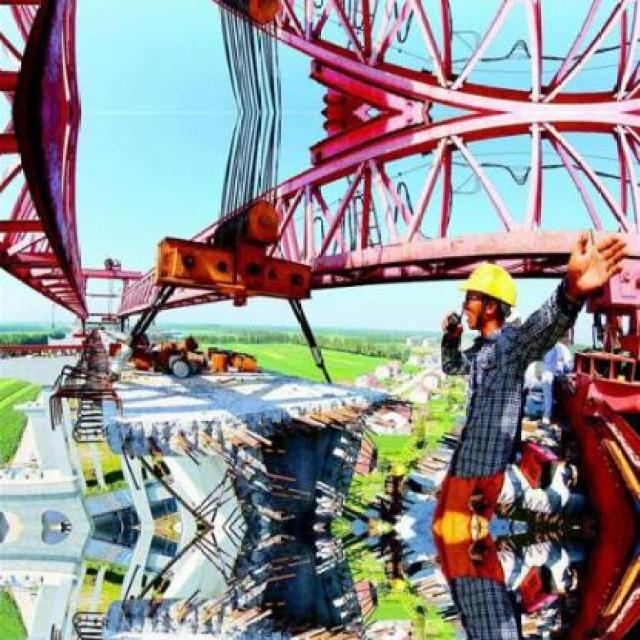helmet: (454, 261, 521, 336)
